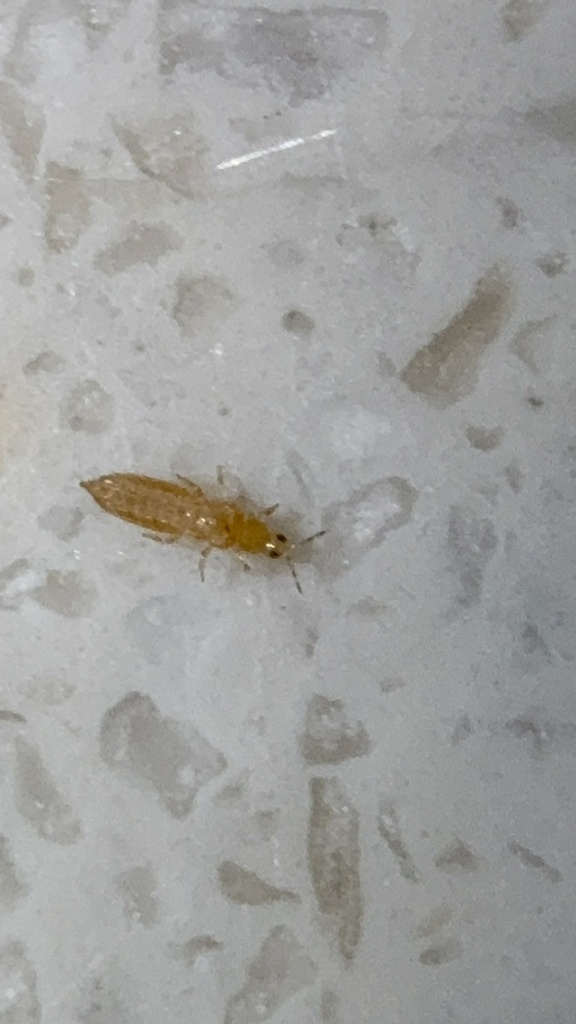tiny_pests: (52, 411, 401, 640)
